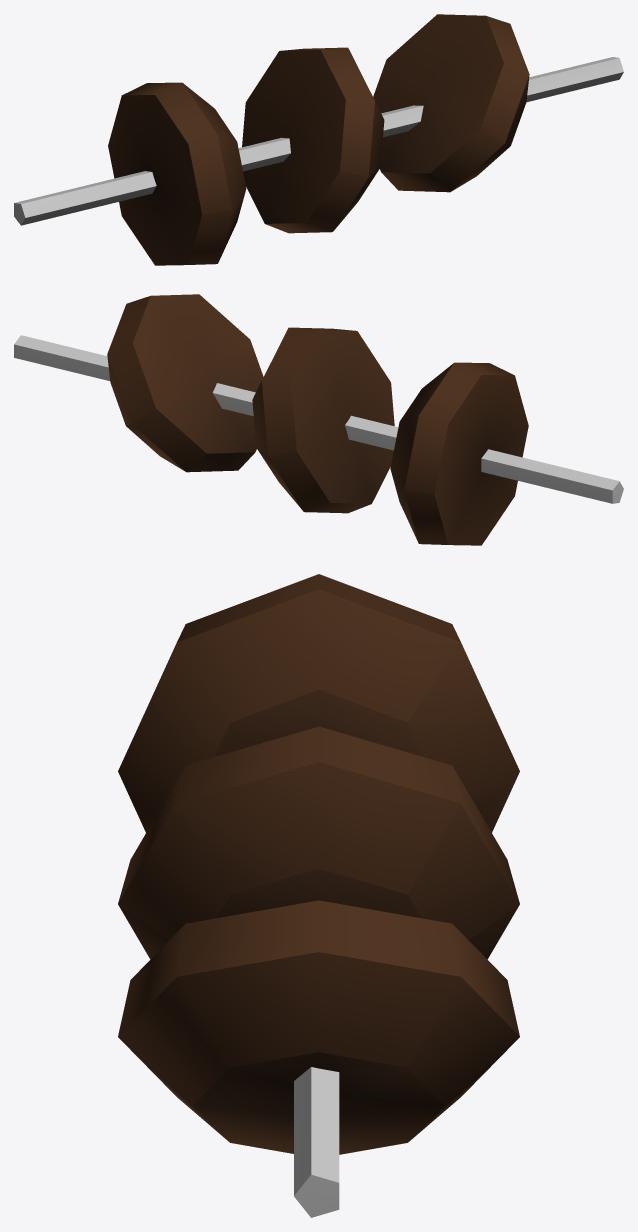
The model's file is setas_asadas.glb.
The picture shows the model from 3 angles, top to bottom: view 1: azimuth 30°, elevation 25°; view 2: azimuth 150°, elevation 25°; view 3: azimuth 270°, elevation 25°; orthographic projection. The views are drawn at different scales.
Parts seen in each view (by area): view 1: setas_asadas; view 2: setas_asadas; view 3: setas_asadas.
Boxes of the visible parts, x1,y1,x2,y2 form: setas_asadas: (14, 14, 623, 265); setas_asadas: (14, 294, 623, 545); setas_asadas: (118, 574, 519, 1217).
Size of the model in its own units: 0.22 by 0.064 by 0.064.
